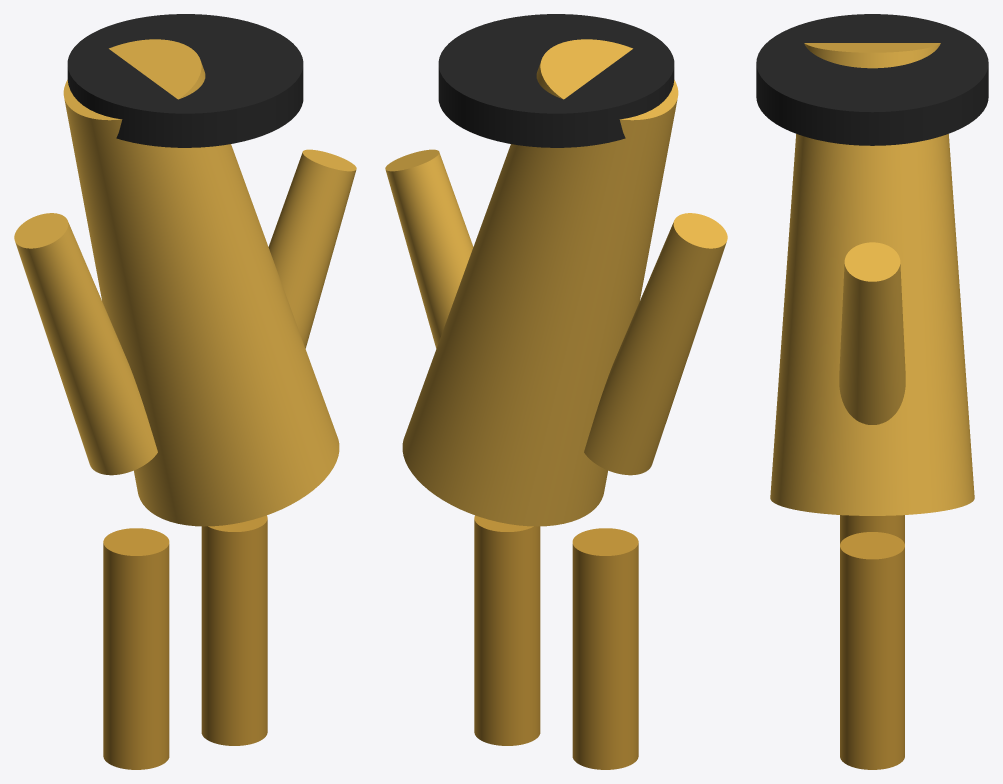
Rendered from croissant_ninja.glb.
3 views of the same model, side by side, from view 1: azimuth 30°, elevation 25°; view 2: azimuth 150°, elevation 25°; view 3: azimuth 270°, elevation 25° (orthographic).
Parts seen in each view (by area): view 1: Body, Headband, LeftArm, LeftLeg, RightLeg, RightArm; view 2: Body, Headband, LeftArm, LeftLeg, RightLeg, RightArm; view 3: Body, Headband, RightLeg, RightArm, LeftLeg.
Part boxes in pixels (bbox=[...]): Body: bbox=[63, 39, 339, 526]; Headband: bbox=[67, 14, 303, 147]; LeftArm: bbox=[14, 213, 157, 475]; LeftLeg: bbox=[103, 528, 169, 769]; RightLeg: bbox=[201, 515, 267, 745]; RightArm: bbox=[268, 149, 356, 348]; Body: bbox=[402, 39, 678, 526]; Headband: bbox=[438, 14, 674, 147]; LeftArm: bbox=[584, 213, 727, 475]; LeftLeg: bbox=[572, 528, 638, 769]; RightLeg: bbox=[474, 515, 540, 745]; RightArm: bbox=[385, 149, 473, 348]; Body: bbox=[770, 43, 974, 515]; Headband: bbox=[756, 14, 988, 145]; RightLeg: bbox=[840, 532, 904, 769]; RightArm: bbox=[839, 242, 905, 424]; LeftLeg: bbox=[840, 515, 904, 543].
Size of the model in its own units: 0.818 by 1.62 by 0.5.
